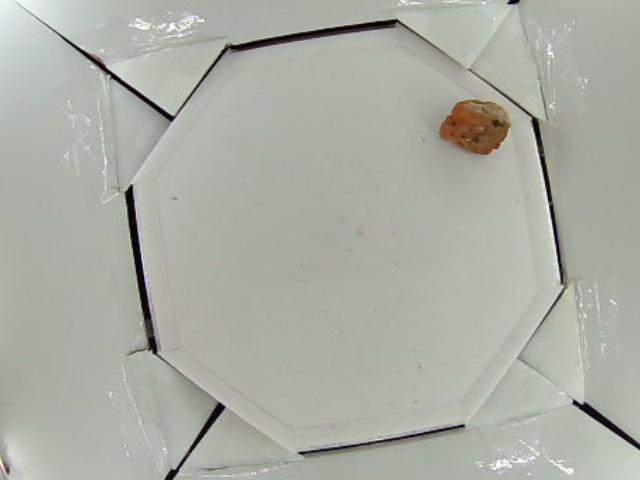Brisk: (437, 98, 511, 154)
